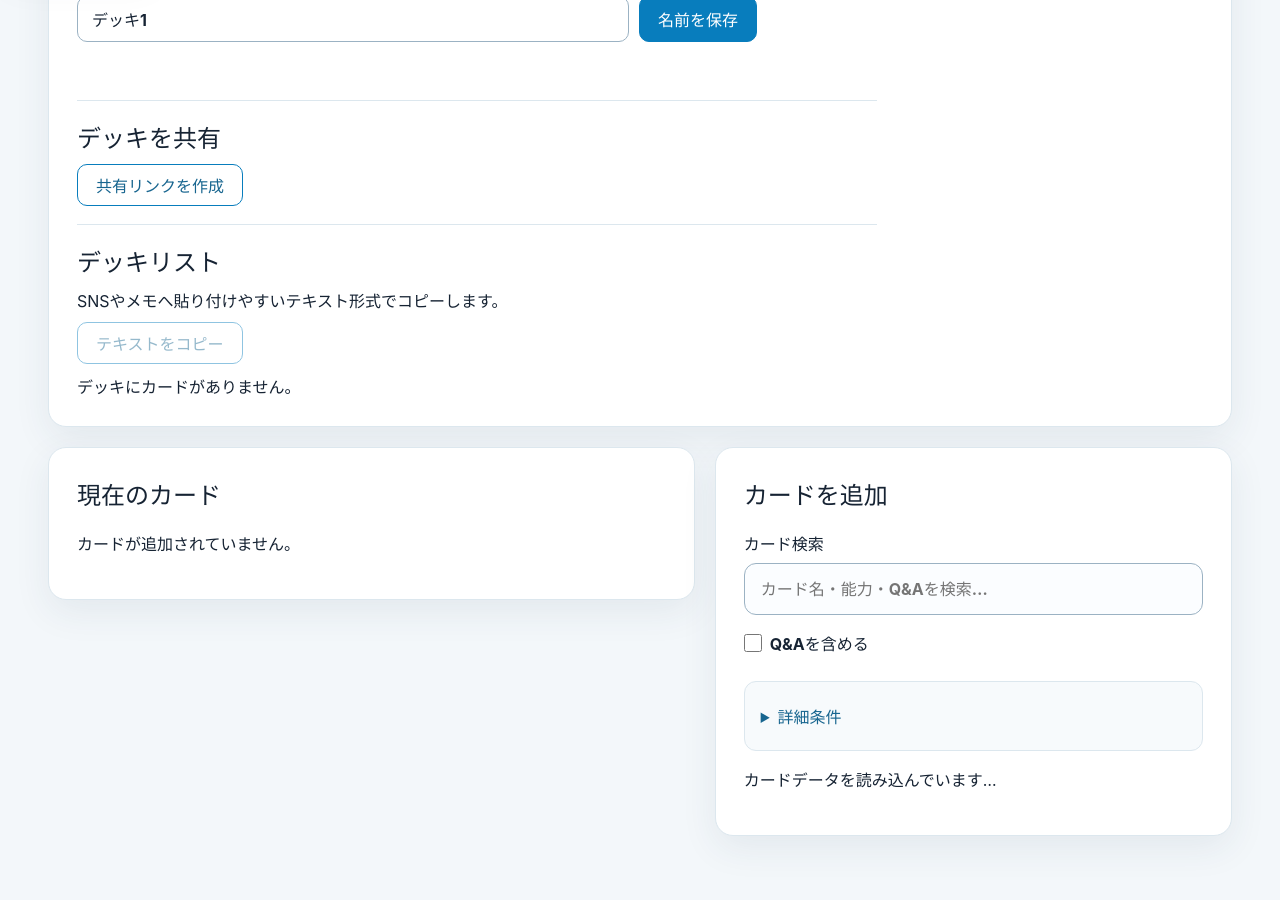
Test case: Card Detail deck quick add › restores Deck Editor pagination from the explicit return link
(page scrolled)
Click the checkbox labelled "Q&Aを含める": x=753, y=643 [744,634,762,652]
(page scrolled)
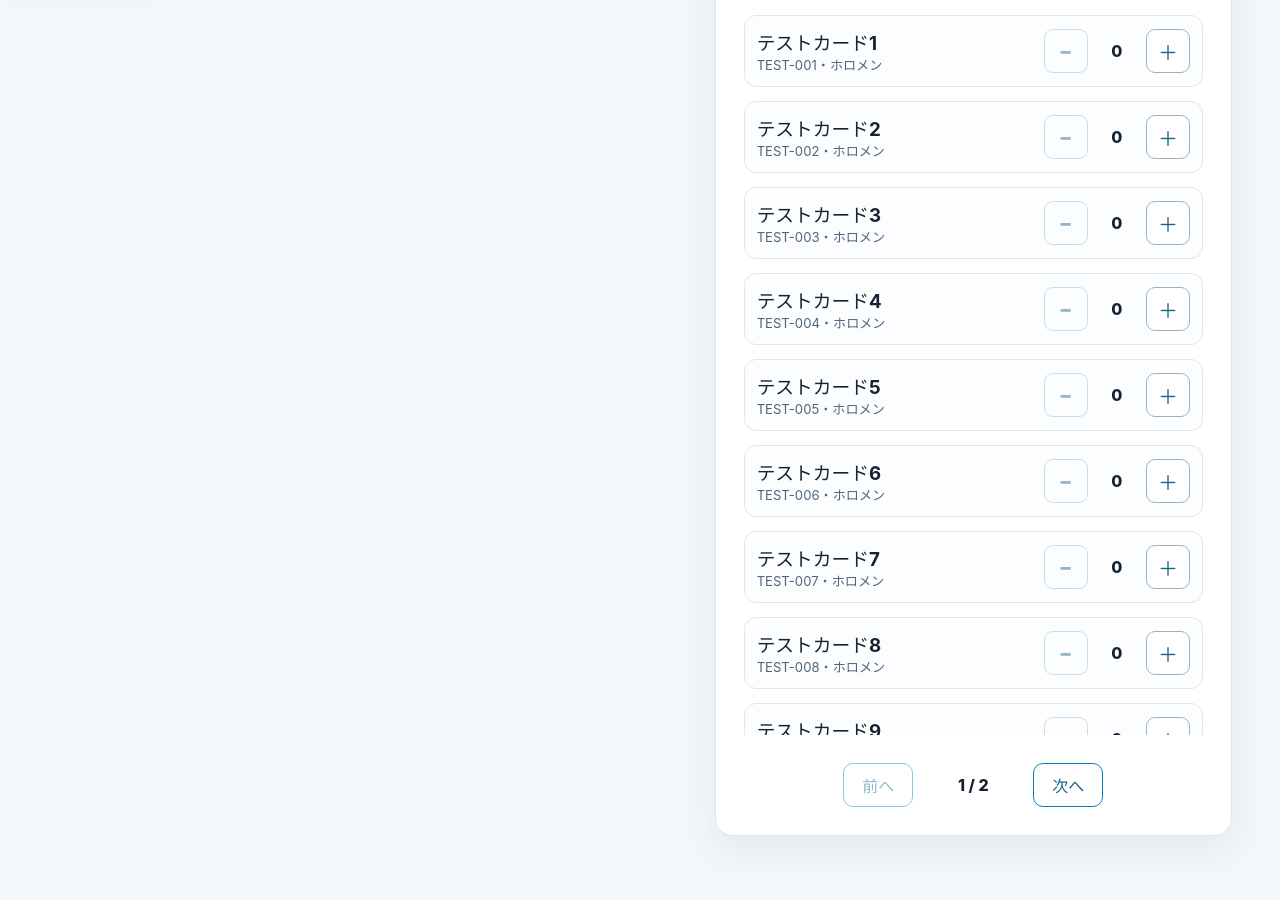
Click the button "次へ": x=1068, y=785 [1033,763,1103,807]
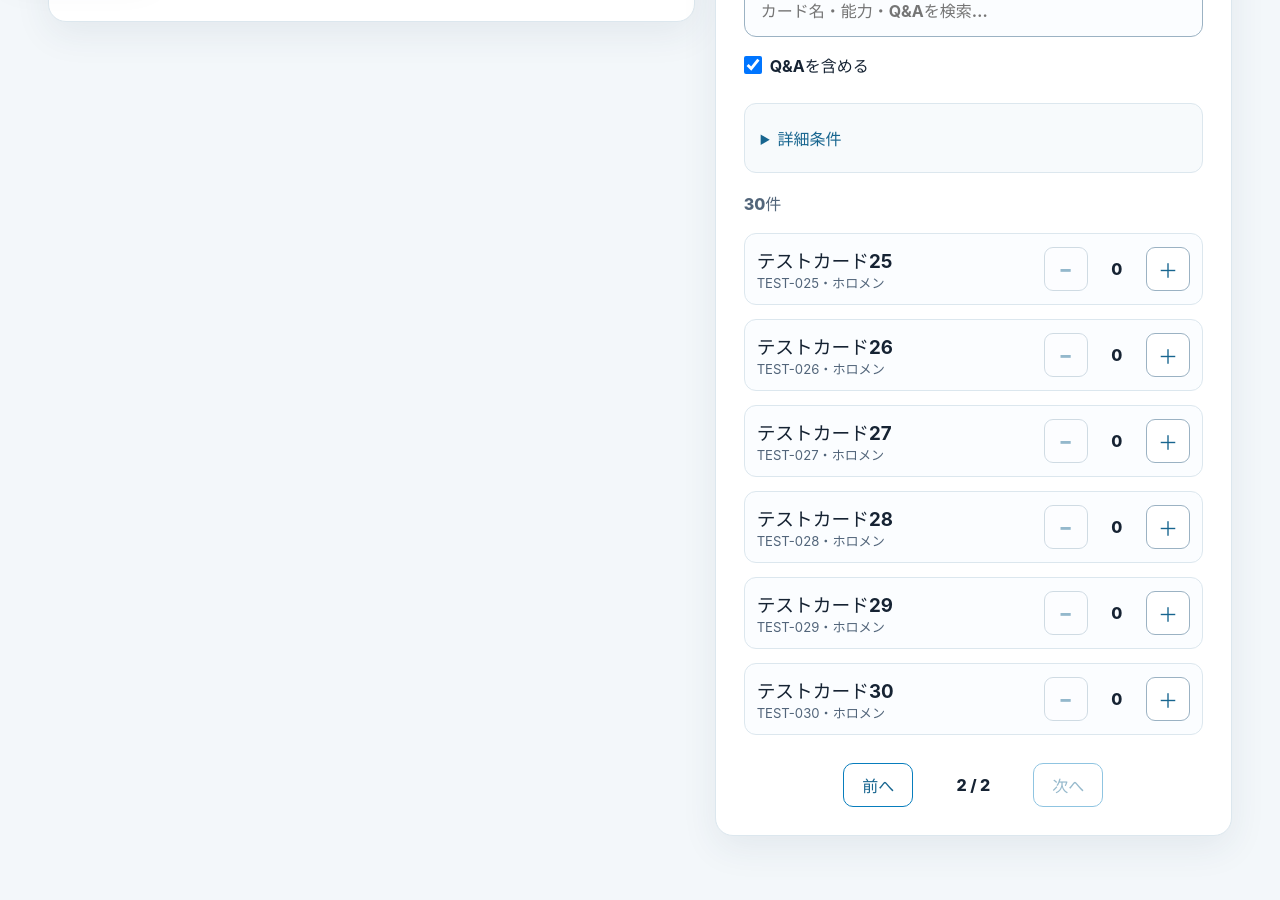
Now the text "2 / 2" is shown, box [956,775,990,795]
Click the link with aria-label "テストカード25のカード詳細を開く": x=824, y=271 [757,250,892,291]
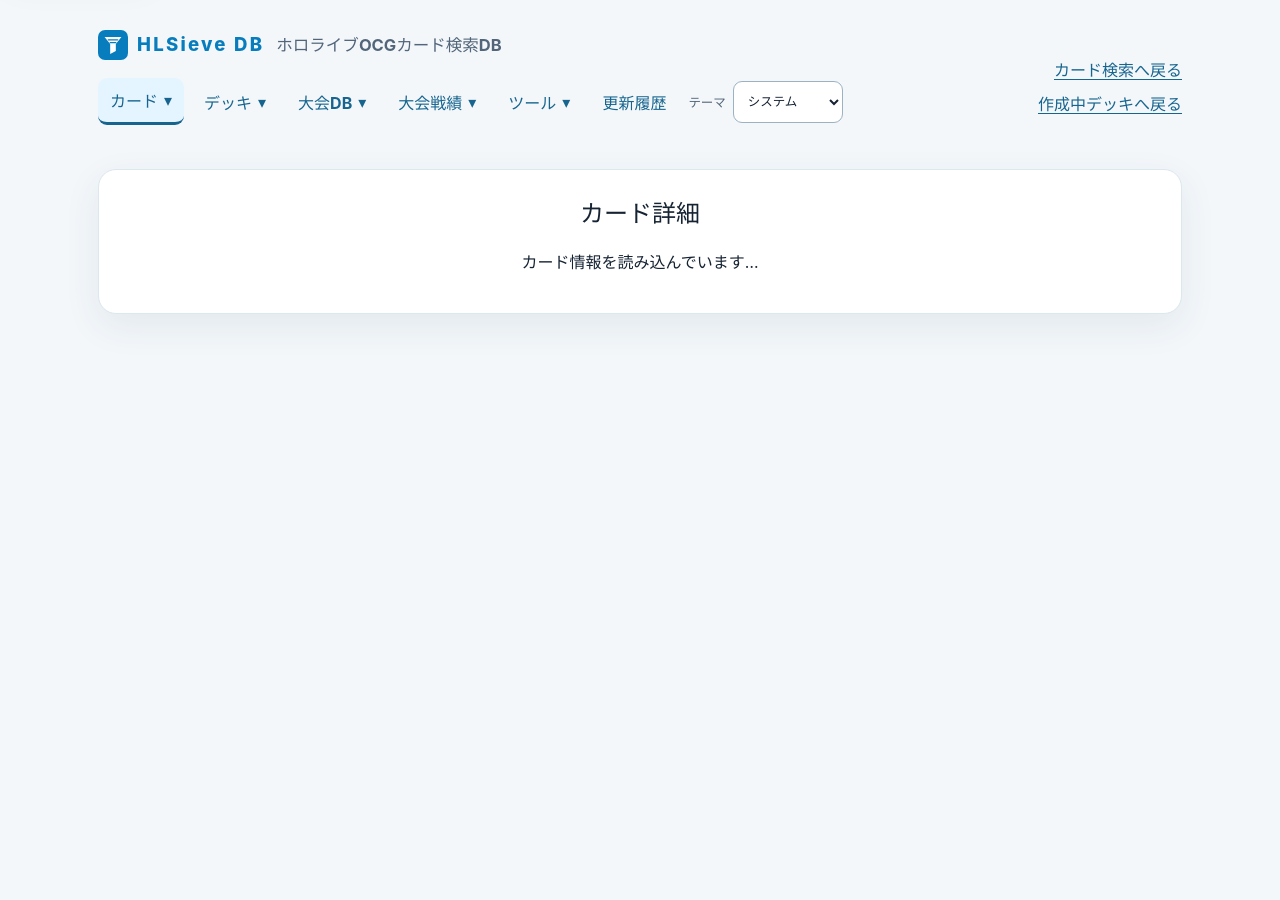
Click the link "作成中デッキへ戻る": x=1110, y=102 [1038,90,1182,114]
(page scrolled)
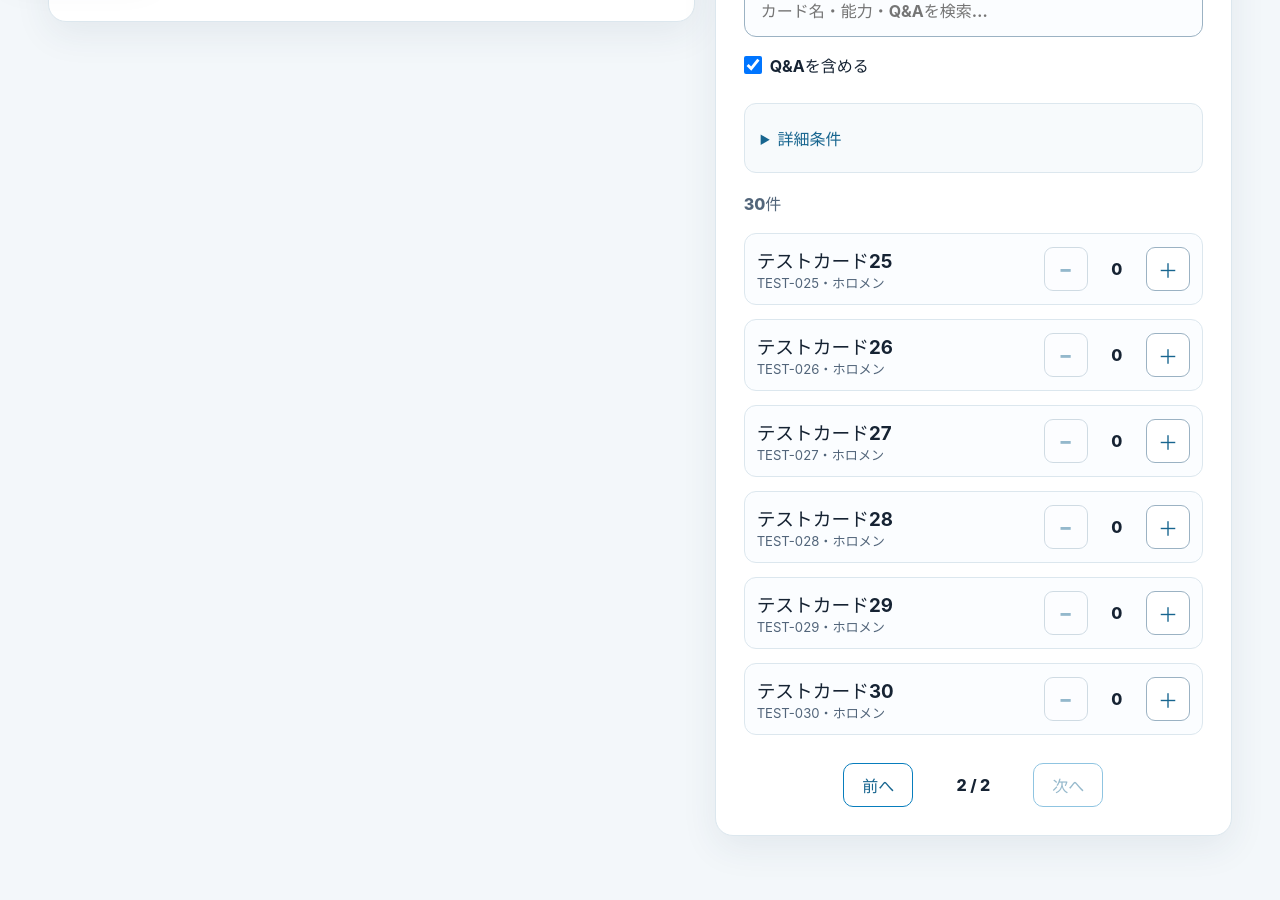
Now the checkbox labelled "Q&Aを含める" is checked, box [744,56,762,74]
Now the text "2 / 2" is shown, box [956,775,990,795]
